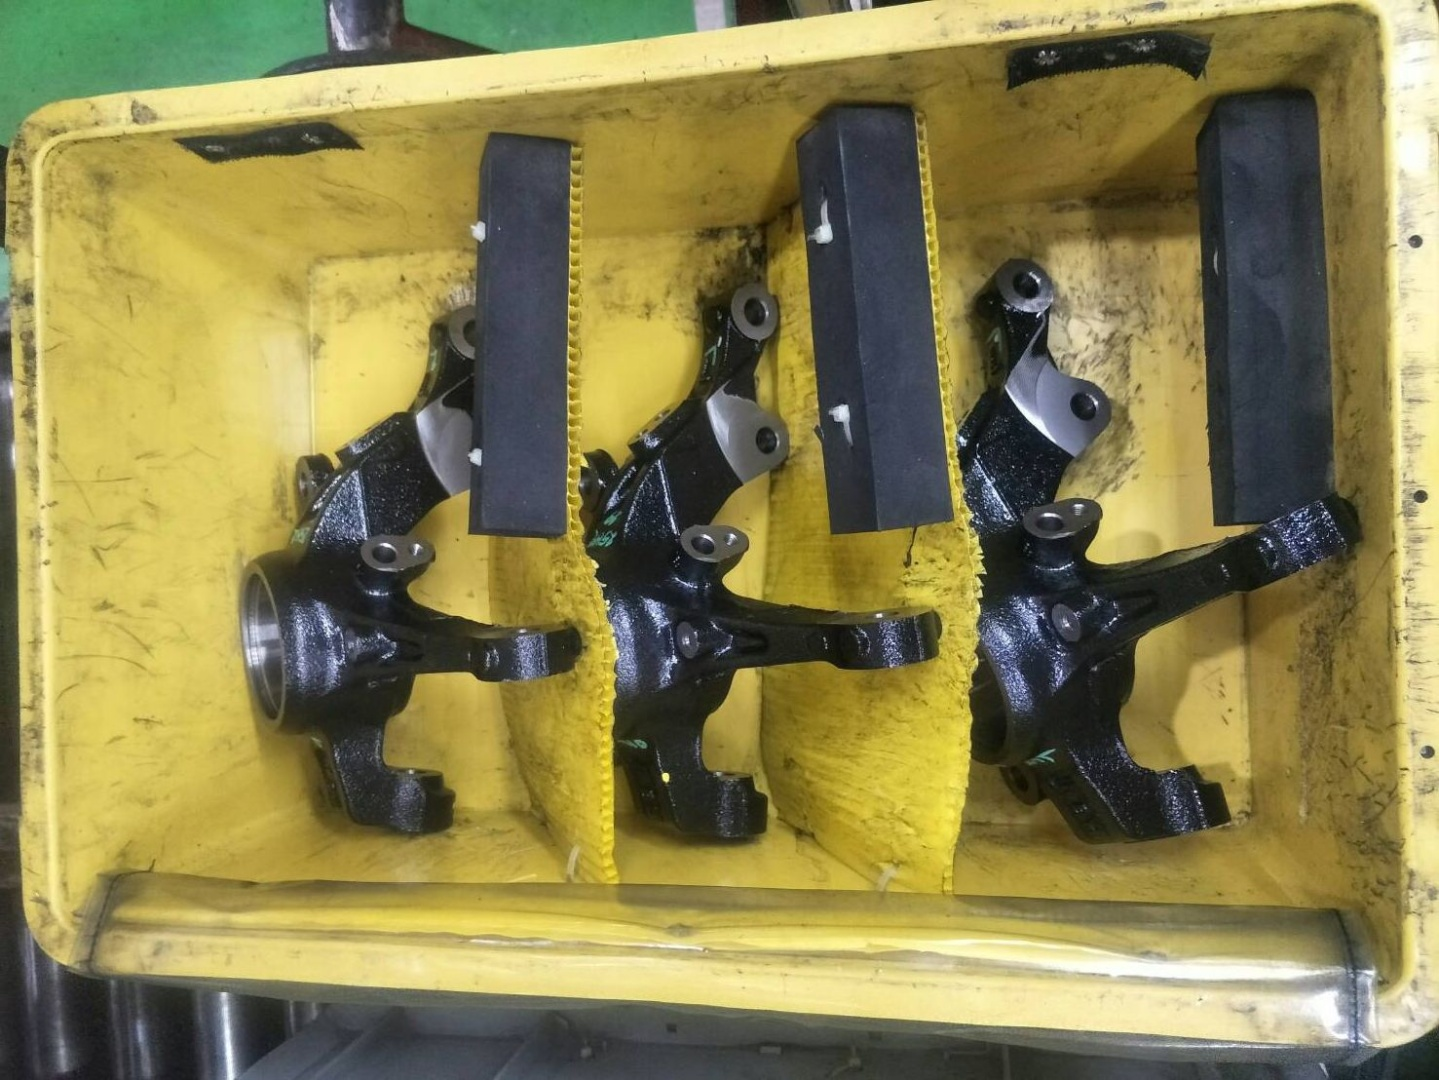abs-lh: (951, 250, 1369, 853), (585, 277, 951, 847), (228, 296, 589, 843)
